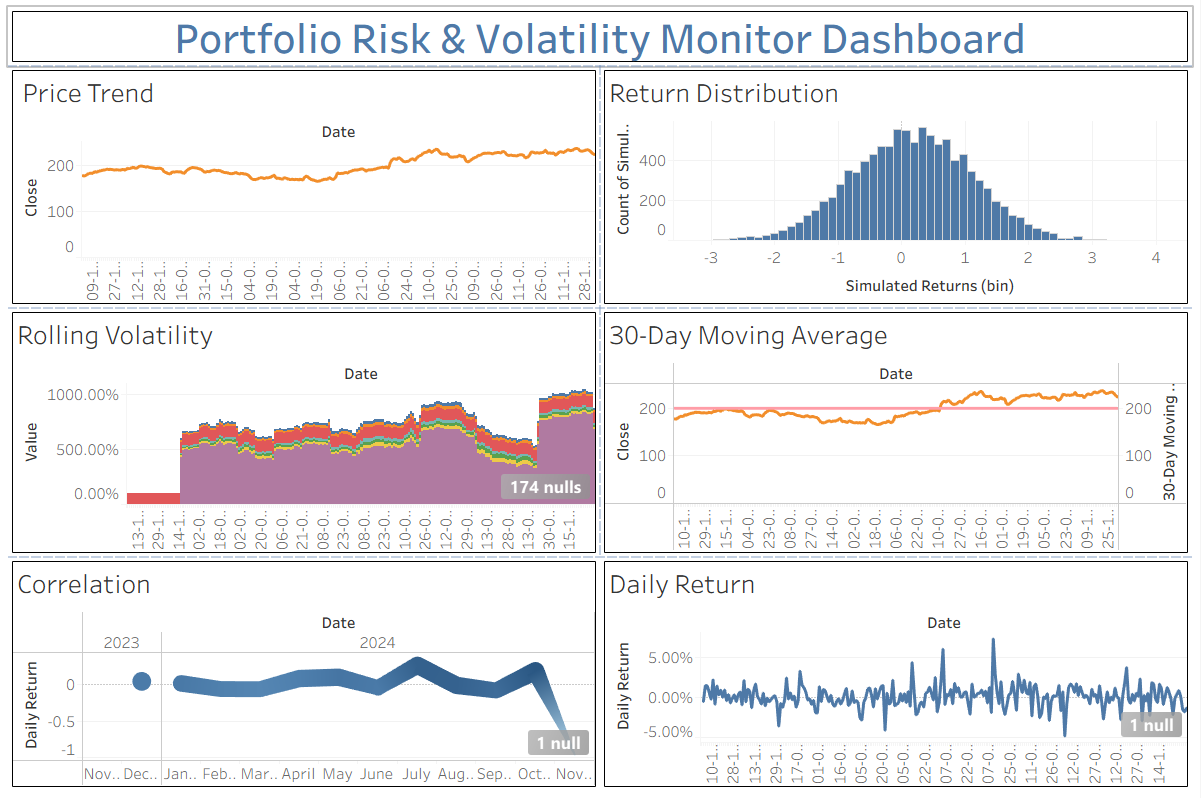

The page's visual inventory and layout, read from the dashboard file:
{"tool":"tableau","page":{"name":"Portfolio Dashboard","canvas":[1200,800],"ordinal":0},"visuals":[{"type":"text","box":[8,8,1184,59]},{"type":"worksheet","title":" Price Trend","mark":"Line","rows":["Close"],"cols":["Date"],"box":[8,67,592,241.7]},{"type":"worksheet","title":"Return Distribution","mark":"Automatic","rows":["Simulated_Returns"],"cols":["Simulated Returns (bin)"],"box":[600,67,592,241.7]},{"type":"worksheet","title":"Rolling Volatility","mark":"Bar","cols":["Date"],"box":[8,308.7,592,249.3]},{"type":"worksheet","title":"30-Day Moving Average","mark":"Automatic","rows":["Close"],"cols":["Date"],"box":[600,308.7,592,249.3]},{"type":"worksheet","title":"Correlation ","mark":"Automatic","rows":["Calculation_0223784049147908"],"cols":["Date","Date"],"box":[8,558,592,234]},{"type":"worksheet","title":"Daily Return","mark":"Line","cols":["Date"],"box":[600,558,592,234]}]}

Visuals, with their boxes in screenshot pixels (x1, y1, x2, y2), scaled from the page's 1200x800 canvas onto the 1201x798 screenshot:
text: (x1=8, y1=8, x2=1193, y2=67)
" Price Trend" worksheet (Line marks): (x1=8, y1=67, x2=600, y2=308)
"Return Distribution" worksheet: (x1=600, y1=67, x2=1193, y2=308)
"Rolling Volatility" worksheet (Bar marks): (x1=8, y1=308, x2=600, y2=557)
"30-Day Moving Average" worksheet: (x1=600, y1=308, x2=1193, y2=557)
"Correlation " worksheet: (x1=8, y1=557, x2=600, y2=790)
"Daily Return" worksheet (Line marks): (x1=600, y1=557, x2=1193, y2=790)
